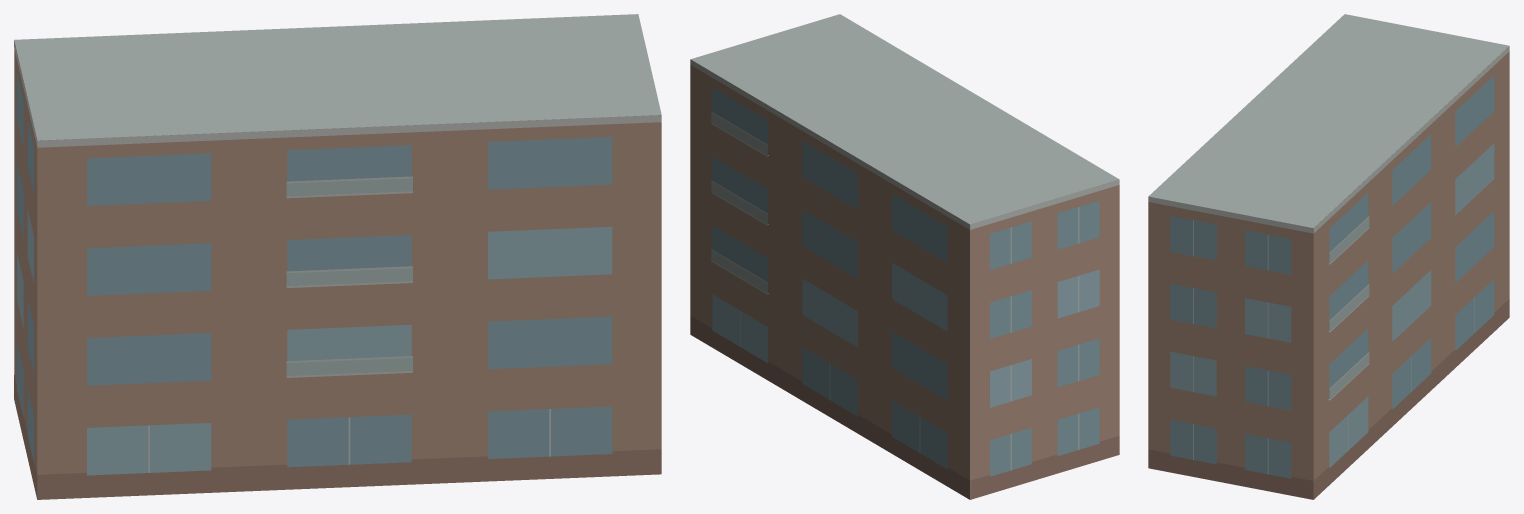
Rendered from residential-2d283302-bbf0-46b2-9fd0-59b2a6e97a03.glb.
3 views of the same model, side by side, from view 1: azimuth 30°, elevation 25°; view 2: azimuth 150°, elevation 25°; view 3: azimuth 270°, elevation 25° (orthographic). The views are drawn at different scales.
Parts seen in each view (by area): view 1: residential-2d283302-bbf0-46b2-9fd0-59b2a6e97a03.tmp; view 2: residential-2d283302-bbf0-46b2-9fd0-59b2a6e97a03.tmp; view 3: residential-2d283302-bbf0-46b2-9fd0-59b2a6e97a03.tmp.
Boxes of the visible parts, x1,y1,x2,y2 form: residential-2d283302-bbf0-46b2-9fd0-59b2a6e97a03.tmp: (14,14,661,499); residential-2d283302-bbf0-46b2-9fd0-59b2a6e97a03.tmp: (690,14,1119,499); residential-2d283302-bbf0-46b2-9fd0-59b2a6e97a03.tmp: (1148,14,1509,499).
Size of the model in its own units: 20.63 by 12.2 by 14.72.
